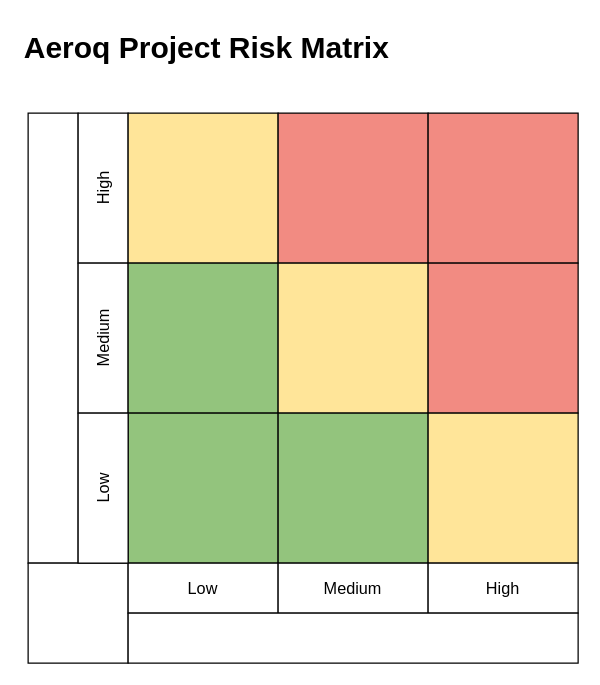
The diagram is 600 pixels wide and 685 high, and some of its shapes have lost their labels. Each missing label, with the box of its shape:
Impact: (127, 612, 578, 663)
Probability: (27, 112, 78, 563)
